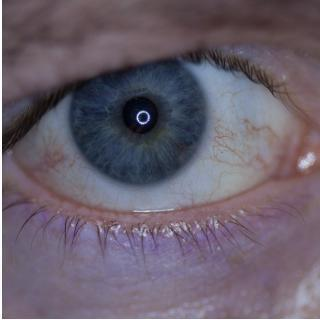iris: (68, 44, 210, 186)
